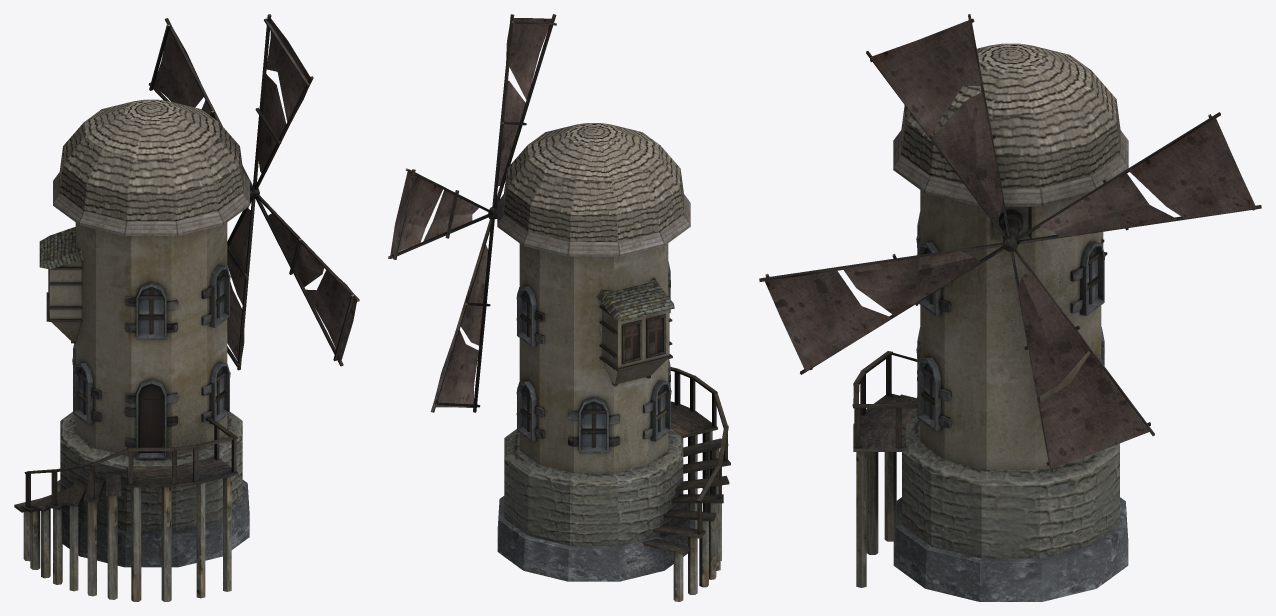
The model's file is windmill.obj.
3 renders of one model, left to right at view 1: azimuth 30°, elevation 25°; view 2: azimuth 150°, elevation 25°; view 3: azimuth 270°, elevation 25°, orthographic. The views are drawn at different scales.
Visible parts, largest first — view 1: mlyn, lopatky; view 2: mlyn, lopatky; view 3: mlyn, lopatky.
Part boxes in pixels (left/top/right/bottom): mlyn: left=14, top=99, right=249, bottom=601; lopatky: left=148, top=14, right=359, bottom=370; mlyn: left=497, top=123, right=730, bottom=601; lopatky: left=388, top=14, right=556, bottom=412; mlyn: left=852, top=43, right=1128, bottom=601; lopatky: left=759, top=14, right=1261, bottom=472.
Size of the model in its own units: 5.22 by 11.3 by 8.28.
2 materials, 2 textured.
